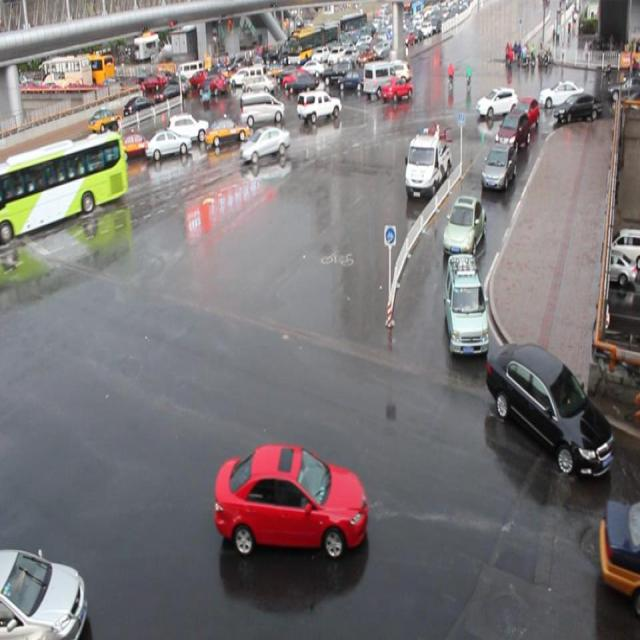bus: (403, 129, 450, 202)
car: (486, 340, 613, 478), (214, 442, 367, 556), (1, 545, 88, 640), (598, 497, 640, 610), (445, 250, 487, 354), (441, 194, 485, 256), (45, 148, 97, 183), (241, 125, 290, 161), (479, 142, 515, 190), (166, 108, 209, 144), (144, 127, 192, 159), (296, 89, 341, 121), (494, 111, 528, 151), (204, 117, 248, 147), (113, 129, 153, 158), (509, 97, 539, 131), (378, 77, 412, 102)
truck: (239, 92, 284, 125), (363, 61, 397, 93)
van: (1, 135, 126, 244)
